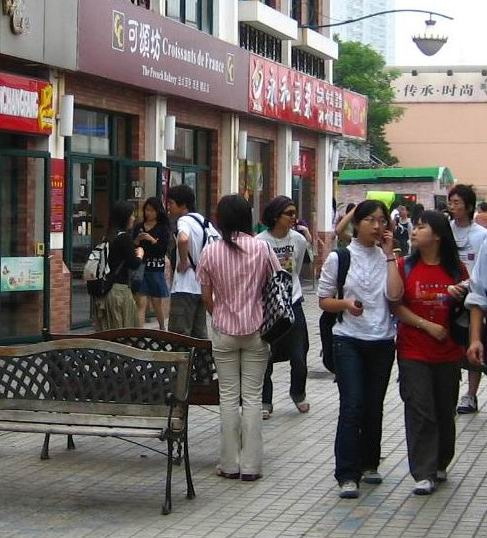person: (314, 187, 394, 506), (205, 196, 279, 484), (401, 201, 461, 505), (91, 198, 140, 347), (137, 195, 170, 321)
